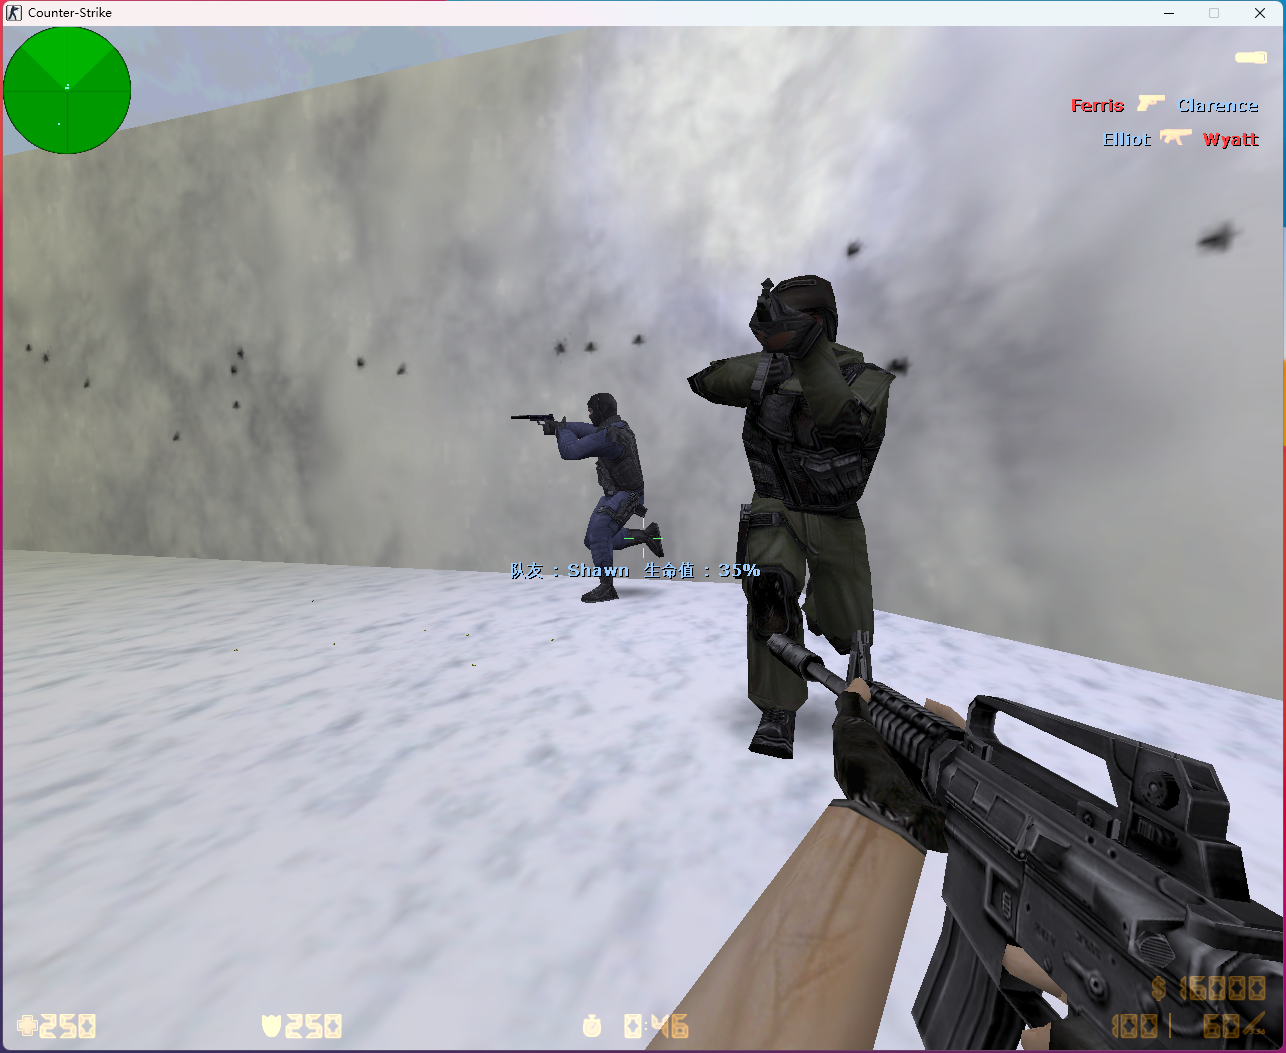C: (683, 269, 891, 765), (507, 387, 669, 608)
